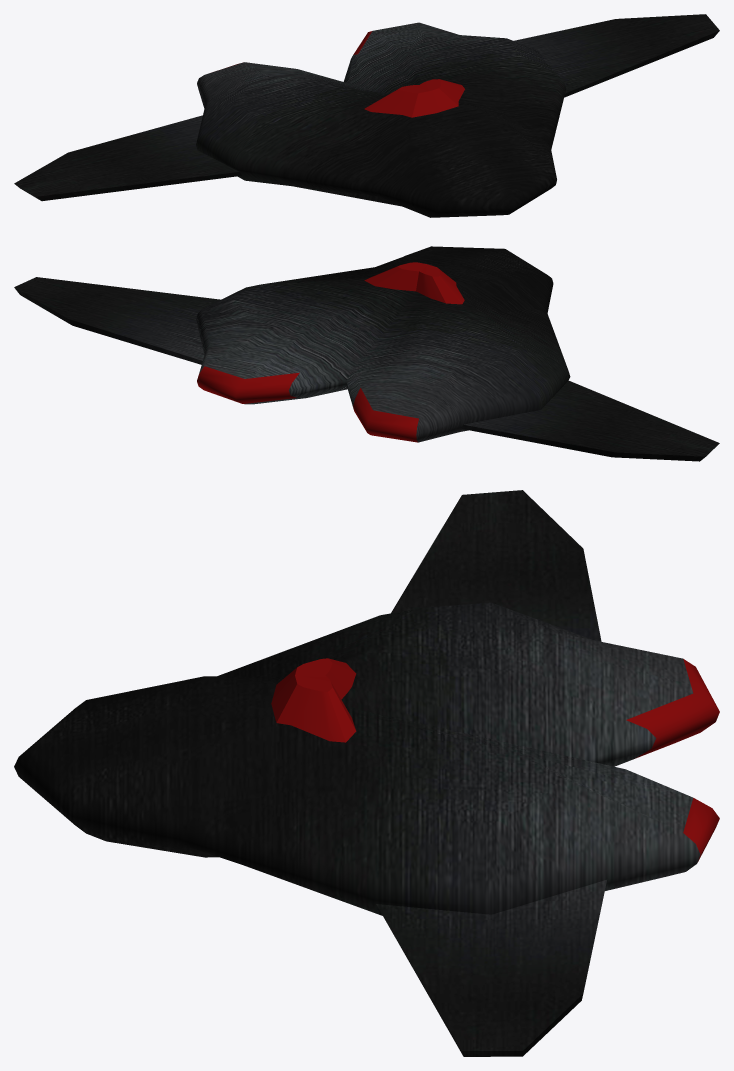
Rendered from minion_new.fbx.
3 renders of one model, top to bottom at view 1: azimuth 30°, elevation 25°; view 2: azimuth 150°, elevation 25°; view 3: azimuth 270°, elevation 25°, orthographic. The views are drawn at different scales.
Visible parts, largest first — view 1: Minion; view 2: Minion; view 3: Minion.
Boxes of the visible parts, x1,y1,x2,y2 form: Minion: [14, 14, 719, 217]; Minion: [14, 246, 719, 461]; Minion: [14, 490, 719, 1056].
Bounding box in the file's own units: 318 × 37.29 × 169.
